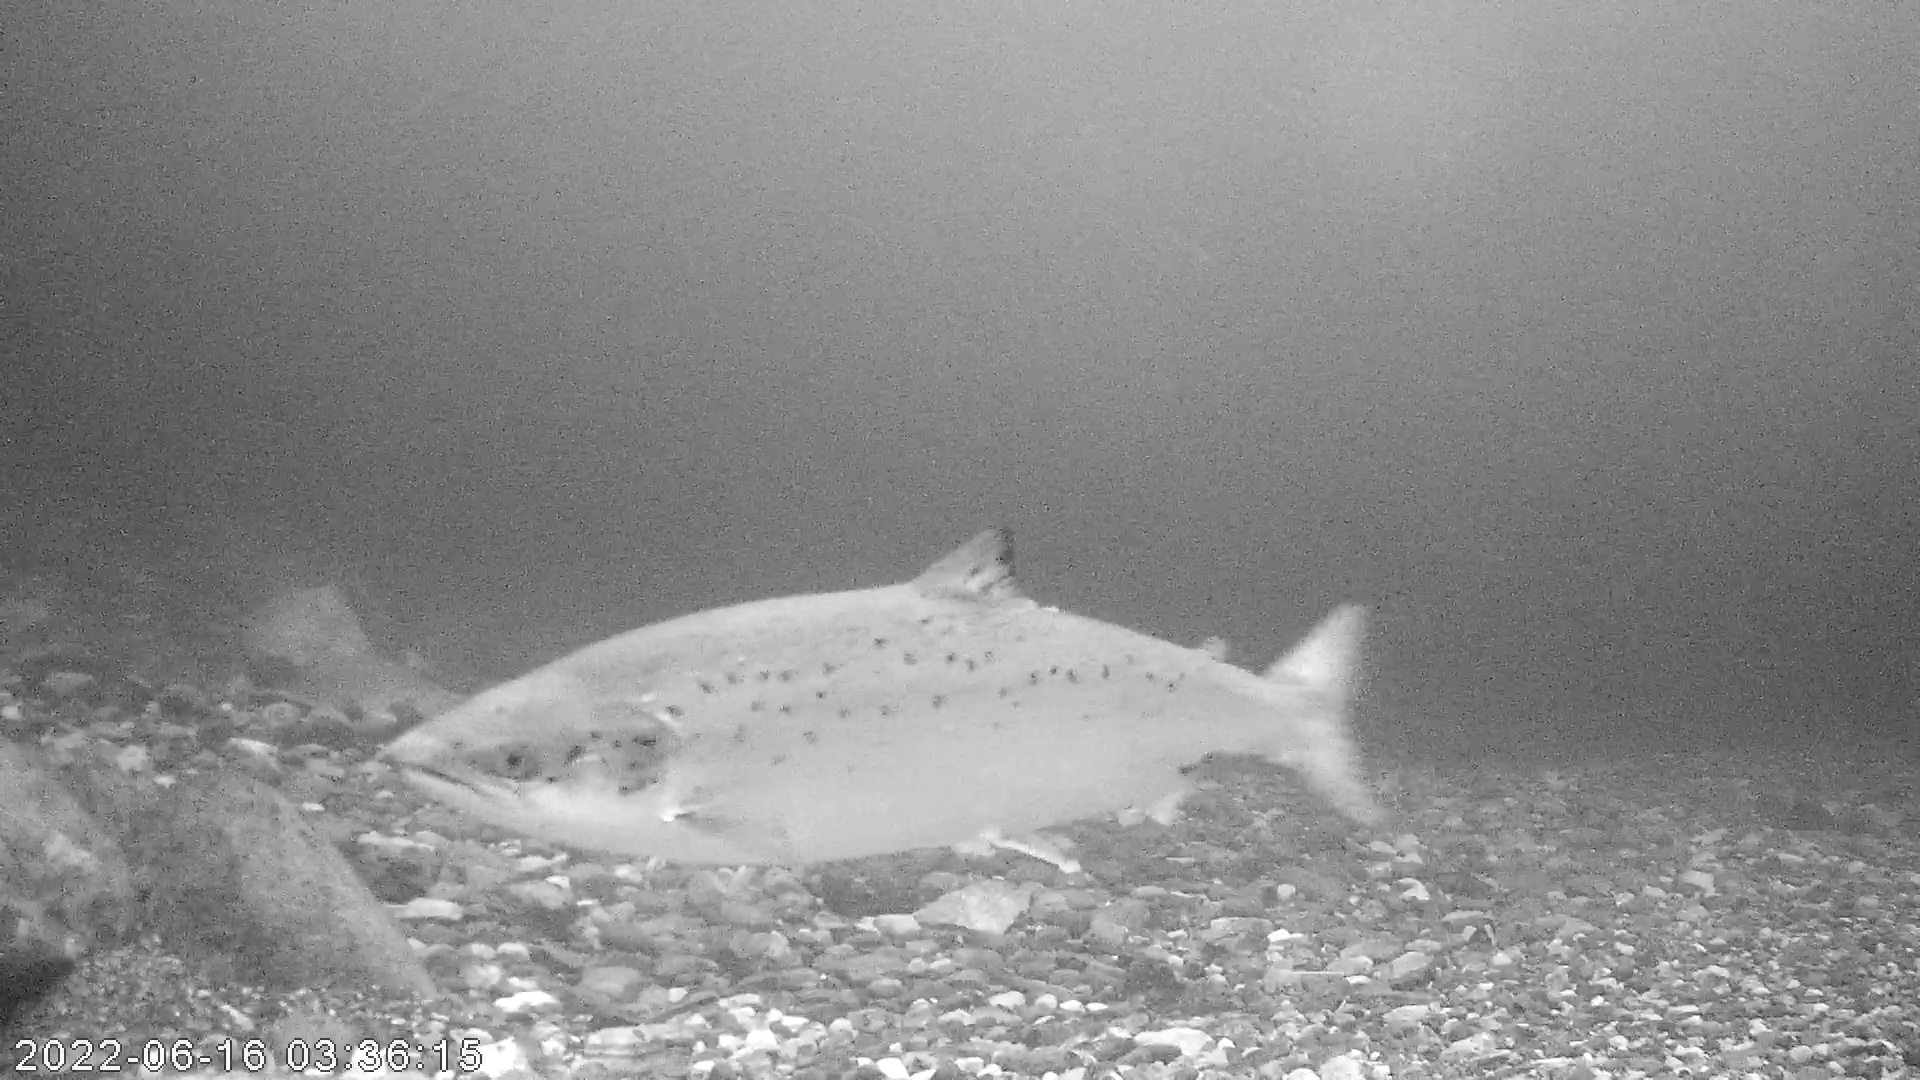salmon: (386, 524, 1385, 876)
